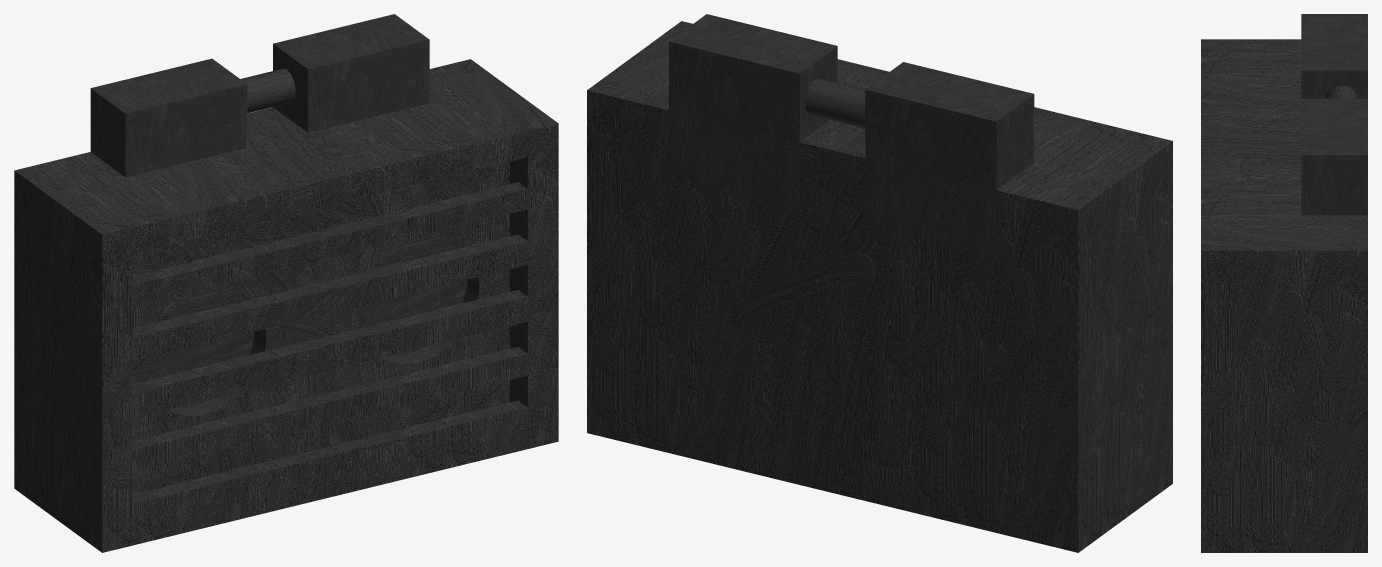
Rendered from SpeakerBox.fbx.
The picture shows the model from 3 angles, left to right: view 1: azimuth 30°, elevation 25°; view 2: azimuth 150°, elevation 25°; view 3: azimuth 270°, elevation 25°; orthographic projection. The views are drawn at different scales.
Visible parts, largest first — view 1: node_id8 (×4); view 2: node_id8 (×4); view 3: node_id8 (×4).
Part boxes in pixels (x1=…): node_id8 (×4): x1=14, y1=14, x2=558, y2=552; node_id8 (×4): x1=587, y1=14, x2=1172, y2=552; node_id8 (×4): x1=1201, y1=14, x2=1367, y2=552.
Size of the model in its own units: 0.512 by 0.4096 by 0.1707.
Materials: 4 (4 with a texture image).
